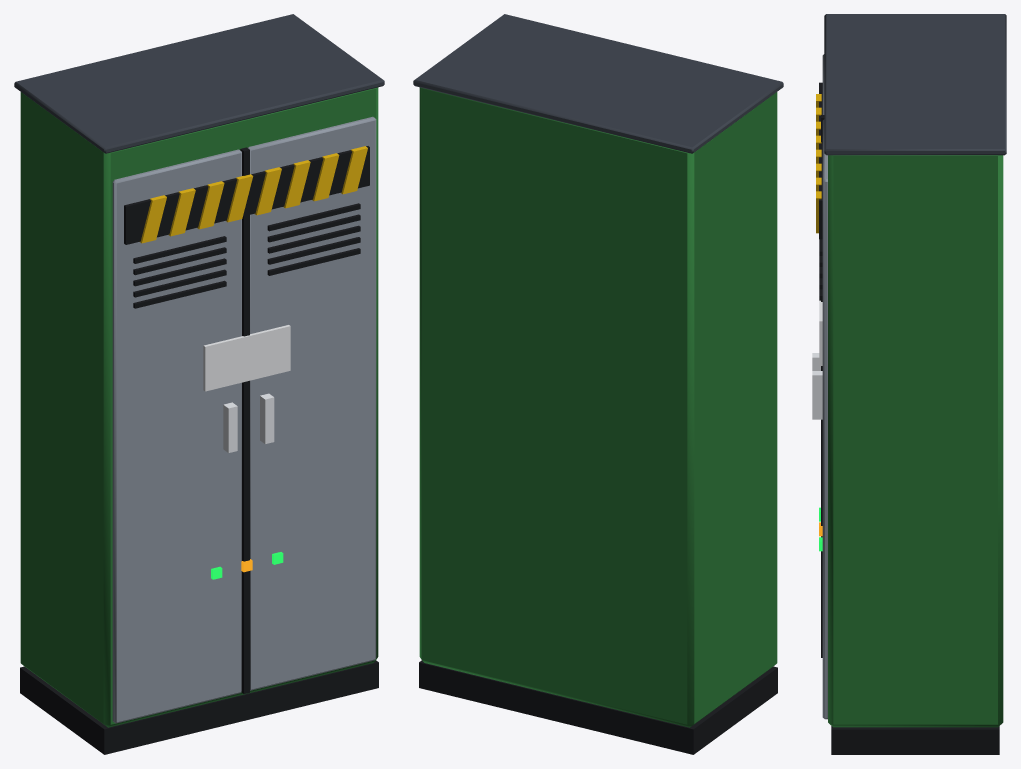
The model's file is capacitor_power_cell_locker.glb.
The picture shows the model from 3 angles, left to right: view 1: azimuth 30°, elevation 25°; view 2: azimuth 150°, elevation 25°; view 3: azimuth 270°, elevation 25°; orthographic projection.
Visible parts, largest first — view 1: capacitor_power_cell_locker; view 2: capacitor_power_cell_locker; view 3: capacitor_power_cell_locker.
Part boxes in pixels (bbox=[...]): capacitor_power_cell_locker: bbox=[14, 14, 384, 754]; capacitor_power_cell_locker: bbox=[413, 14, 783, 754]; capacitor_power_cell_locker: bbox=[812, 14, 1006, 754].
Bounding box in the file's own units: 0.92 × 1.91 × 0.555.
